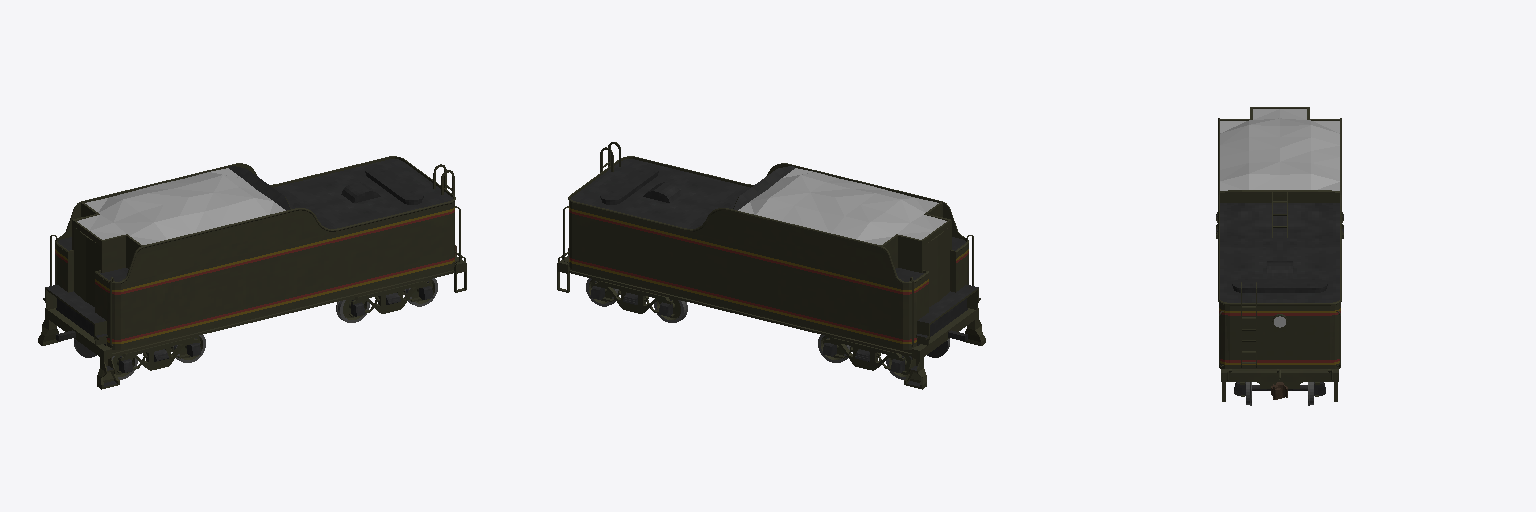
The picture shows the model from 3 angles: view 1: azimuth 30°, elevation 25°; view 2: azimuth 150°, elevation 25°; view 3: azimuth 270°, elevation 25°; orthographic projection.
Parts seen in each view (by area): view 1: SHELL_Cube.030, COAL_Plane, FRAME_Cube.002, BOGEY_REAR_Cube.001, BOGEY_FRONT_Cube; view 2: SHELL_Cube.030, COAL_Plane, FRAME_Cube.002, BOGEY_REAR_Cube.001, BOGEY_FRONT_Cube; view 3: SHELL_Cube.030, COAL_Plane, FRAME_Cube.002.
Boxes of the visible parts, x1,y1,x2,y2 form: SHELL_Cube.030: [43, 156, 460, 349]; COAL_Plane: [77, 168, 285, 244]; FRAME_Cube.002: [38, 255, 466, 389]; BOGEY_REAR_Cube.001: [349, 281, 433, 316]; BOGEY_FRONT_Cube: [117, 337, 200, 373]; SHELL_Cube.030: [563, 156, 980, 349]; COAL_Plane: [738, 168, 946, 244]; FRAME_Cube.002: [557, 255, 985, 389]; BOGEY_REAR_Cube.001: [590, 281, 674, 316]; BOGEY_FRONT_Cube: [823, 337, 906, 373]; SHELL_Cube.030: [1218, 107, 1341, 368]; COAL_Plane: [1220, 109, 1339, 190]; FRAME_Cube.002: [1216, 212, 1343, 401].
Size of the model in its own units: 11.08 by 4.01 by 3.08.
5 materials, 3 textured.